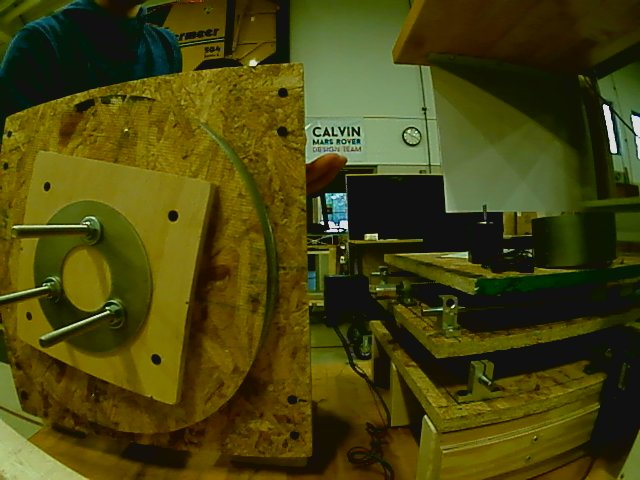bolt: (99, 295, 128, 332), (79, 214, 103, 248), (41, 275, 63, 306)
